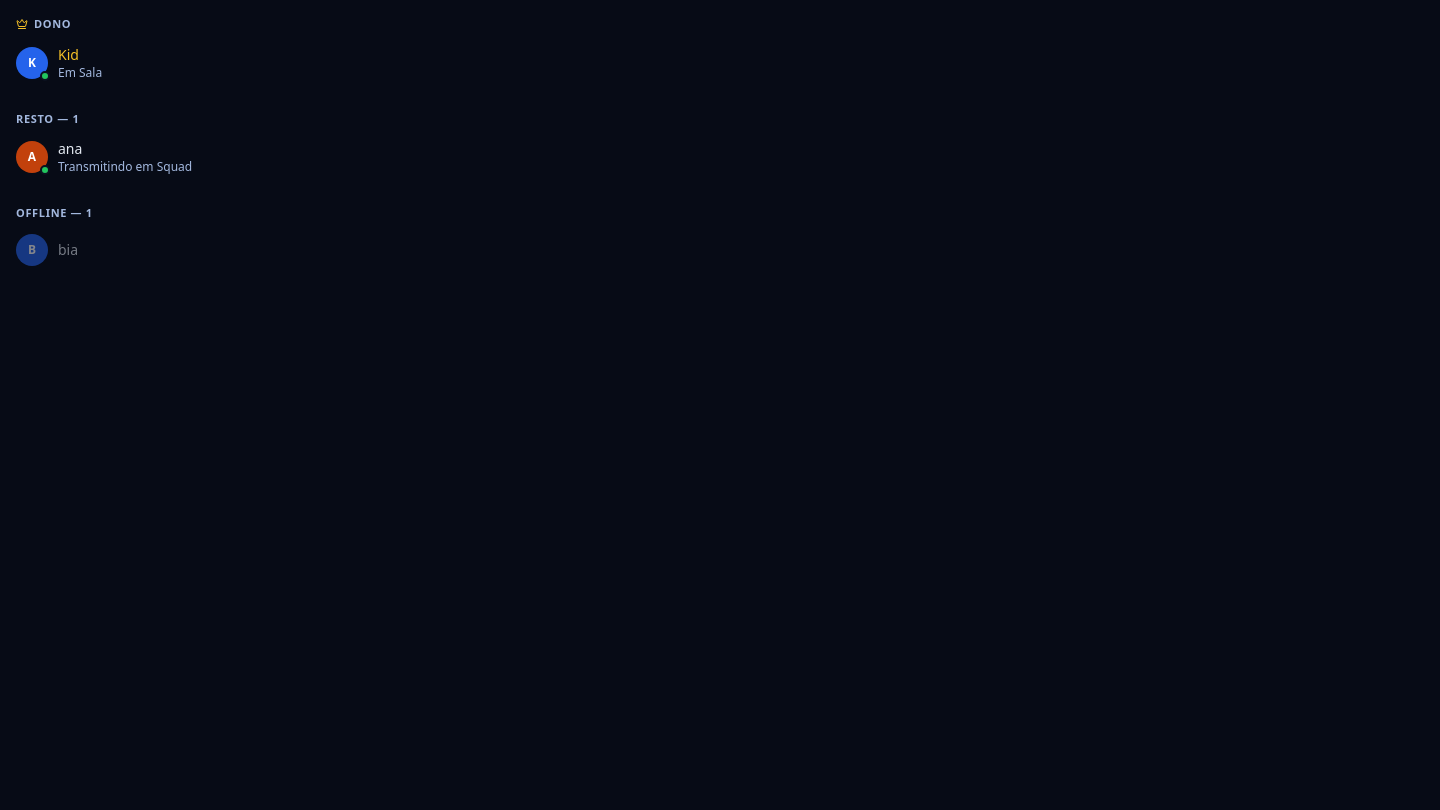
PeopleList › clicar em alguém na lista de membros abre o cartão da pessoa
Expected: the text "Em Sala" is shown, top-left (58, 64), bottom-right (102, 80)
Click the button "K Kid Em Sala" at [32, 62], box top-left (8, 38), bottom-right (1432, 86)
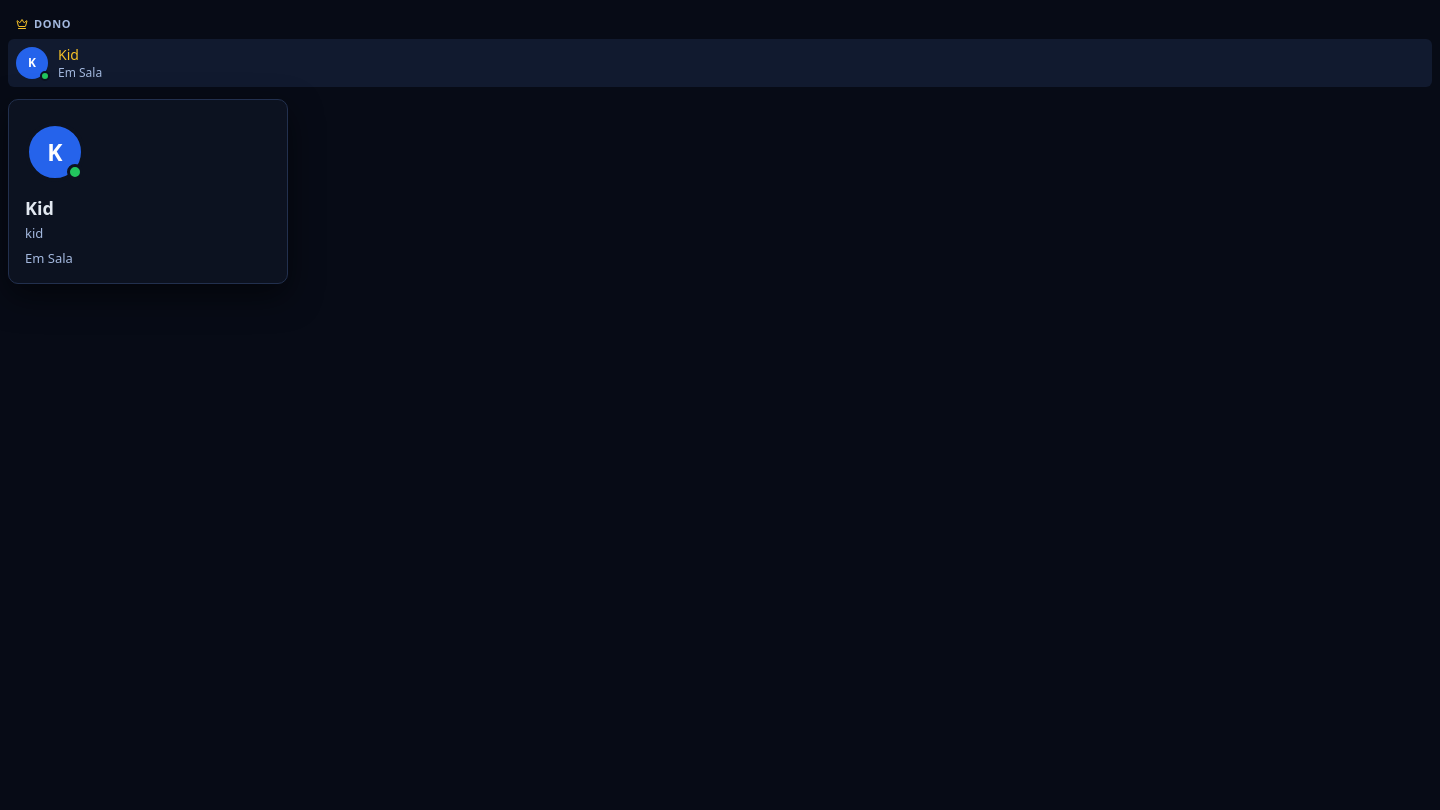
Now the text "kid" is shown, box top-left (25, 224), bottom-right (43, 242)
Now the 2nd text "Em Sala" is shown, box top-left (25, 249), bottom-right (73, 267)
# Quem está offline também abre, e o cartão diz isso.
Press Escape
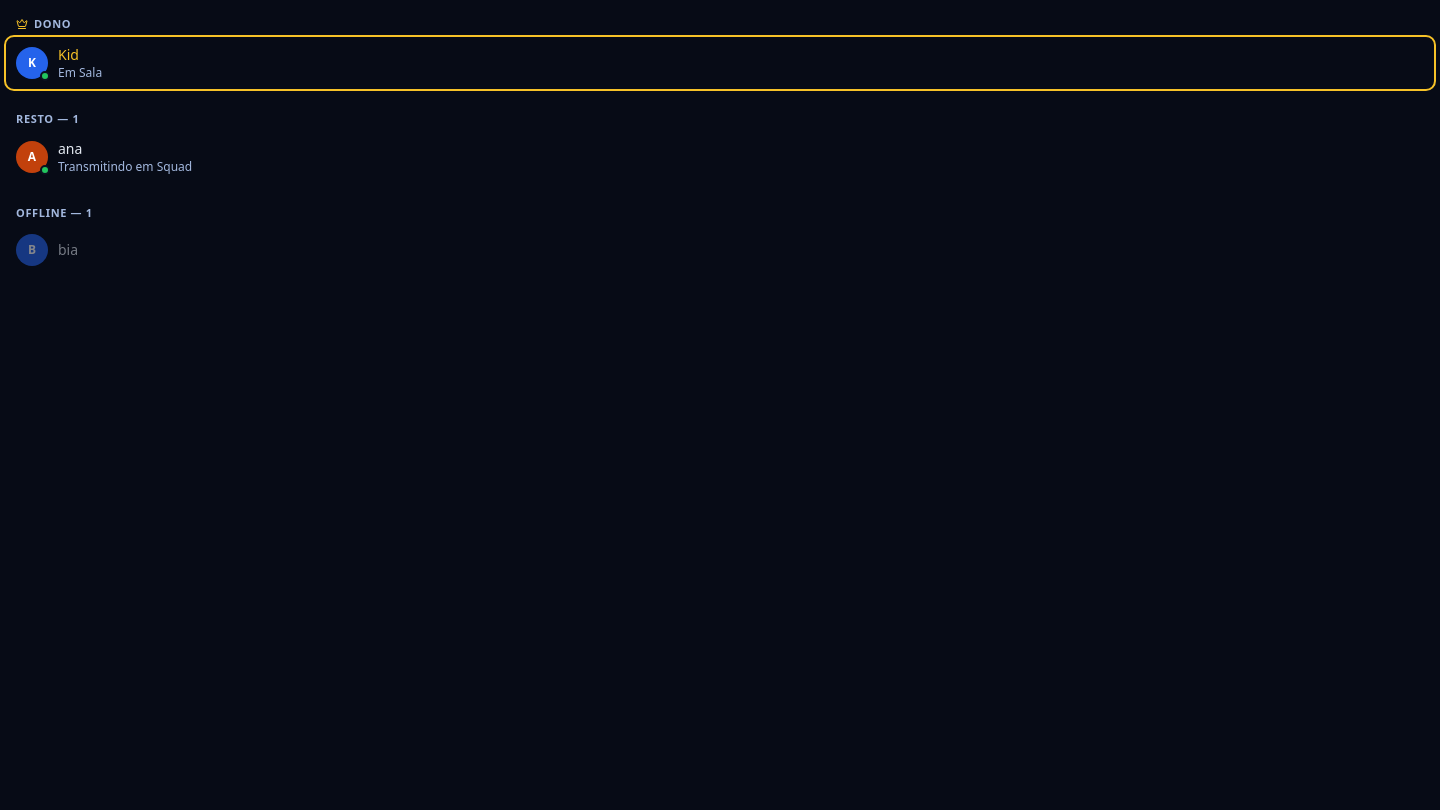
Click the button "B bia" at [32, 250], box top-left (8, 228), bottom-right (1432, 272)
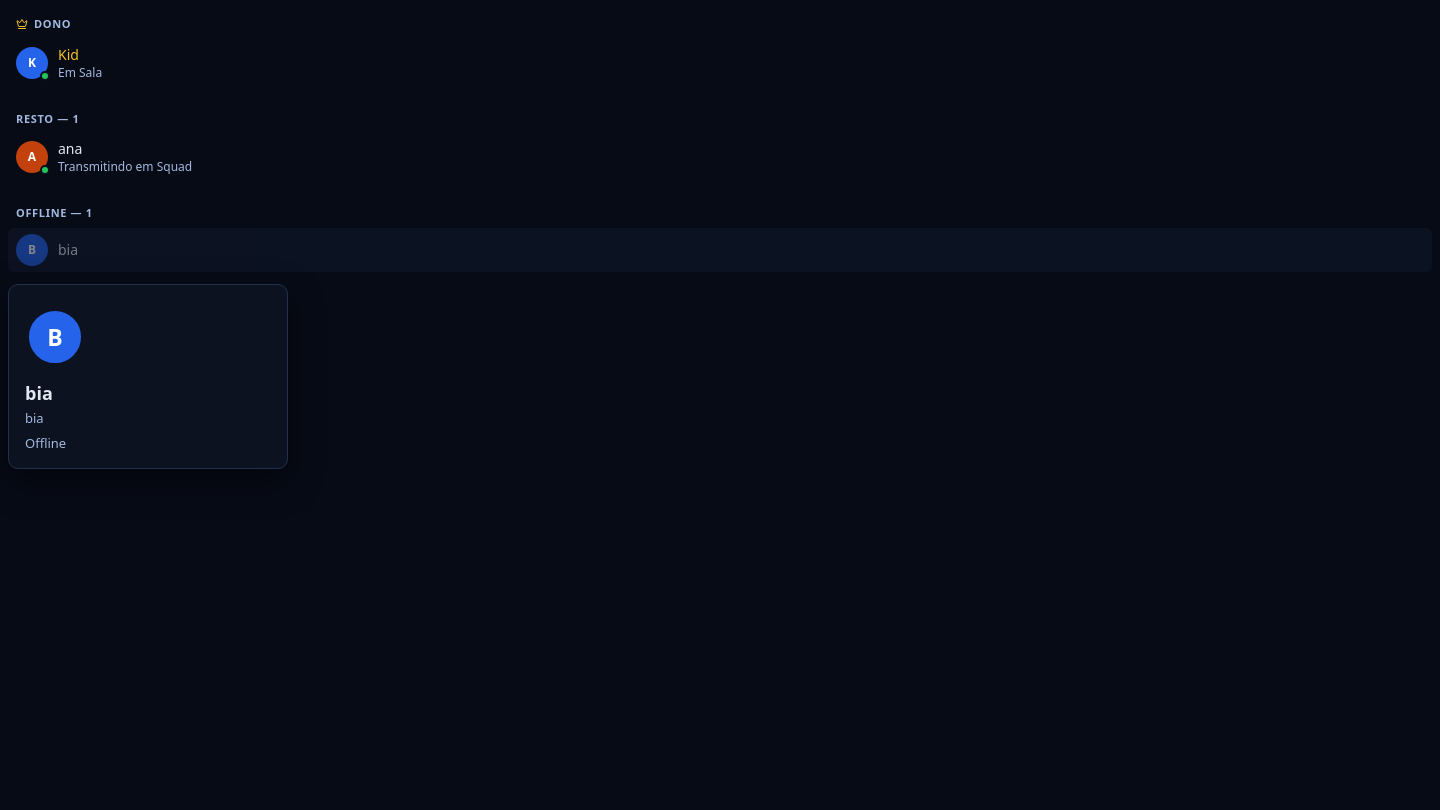
Now the text "Offline" is shown, box top-left (25, 434), bottom-right (66, 452)
